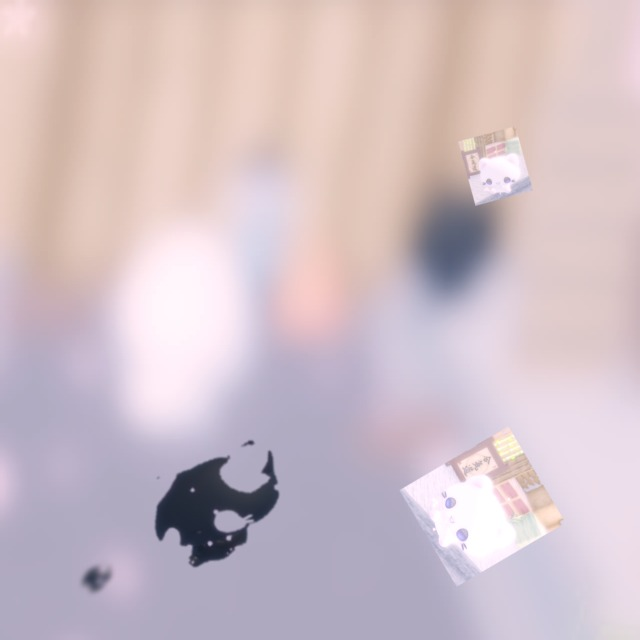urso_branco: (399, 426, 566, 587), (458, 126, 533, 206)
urso_preto: (107, 403, 329, 604), (73, 556, 121, 600)
